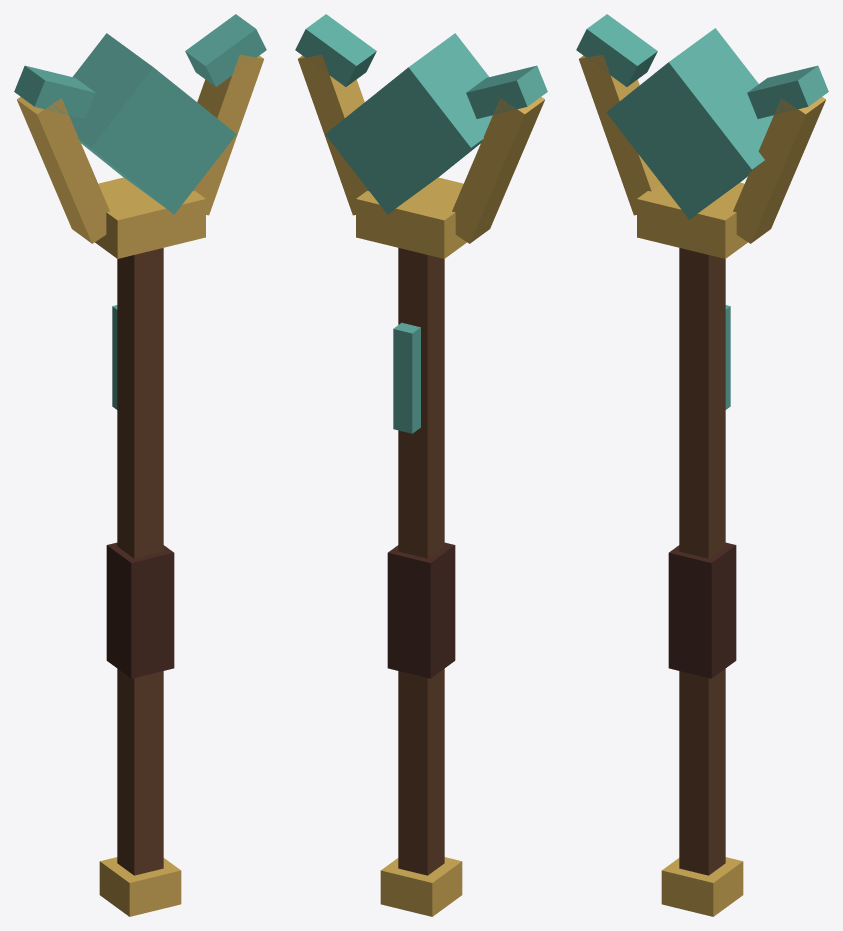
The model's file is apprentice_staff.glb.
3 renders of one model, left to right at view 1: azimuth 30°, elevation 25°; view 2: azimuth 150°, elevation 25°; view 3: azimuth 330°, elevation 25°, orthographic.
Parts seen in each view (by area): view 1: apprentice_staff; view 2: apprentice_staff; view 3: apprentice_staff.
Part boxes in pixels (x1=…): apprentice_staff: x1=14, y1=14, x2=266, y2=916; apprentice_staff: x1=295, y1=14, x2=547, y2=916; apprentice_staff: x1=576, y1=14, x2=828, y2=916.
Bounding box in the file's own units: 1.58 × 5.53 × 0.55.
